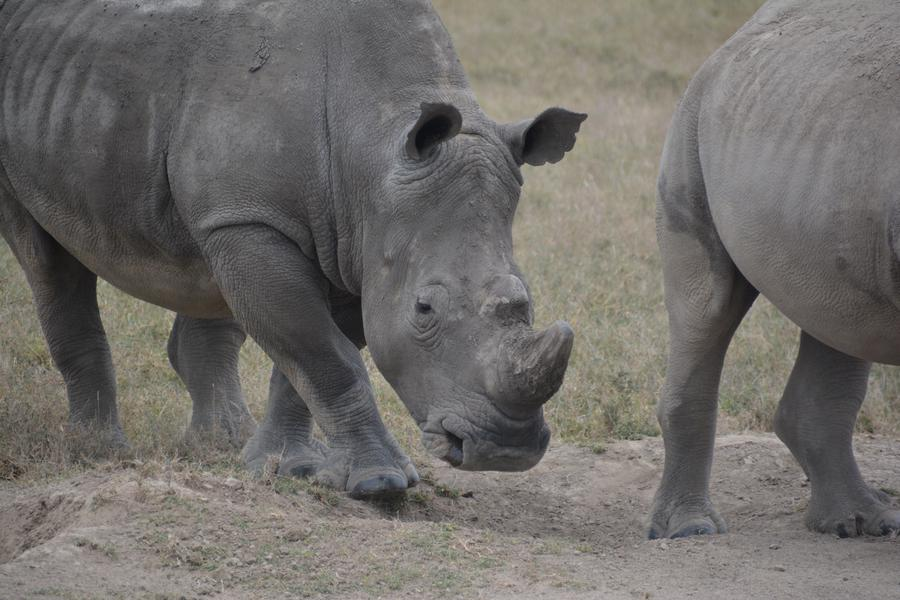rhino: (13, 10, 542, 503), (633, 10, 891, 547)
